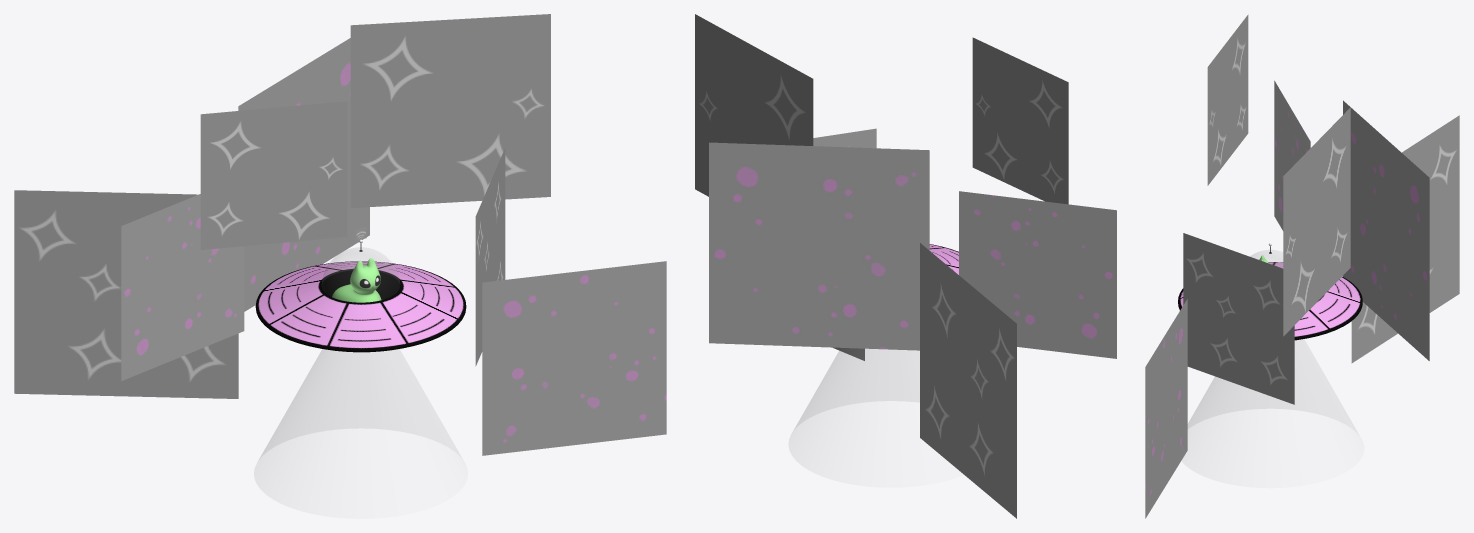
The model's file is cat alien.fbx.
3 renders of one model, left to right at view 1: azimuth 30°, elevation 25°; view 2: azimuth 150°, elevation 25°; view 3: azimuth 270°, elevation 25°, orthographic. The views are drawn at different scales.
Parts seen in each view (by area): view 1: Plane.006, Plane.007, Plane.005, Plane.003, Plane.001, ship, light, Plane.004, Plane.002, glass; view 2: Plane.004, Plane.001, Plane.005, Plane.003, Plane.006, light, Plane.002, ship; view 3: Plane.004, Plane.002, Plane.006, Plane.005, Plane.007, Plane.003, light, ship, Plane.001.
Part boxes in pixels (x1,y1,x2,y2): Plane.006: (350,14,550,208); Plane.007: (482,261,666,455); Plane.005: (14,190,238,398); Plane.003: (200,101,347,249); Plane.001: (121,194,244,380); ship: (255,239,466,352); light: (259,349,462,459); Plane.004: (238,38,369,311); Plane.002: (475,148,505,366); glass: (322,247,399,283); Plane.004: (709,142,929,350); Plane.001: (959,191,1116,358); Plane.005: (920,243,1016,518); Plane.003: (972,37,1068,204); Plane.006: (695,14,813,196); light: (794,348,919,429); Plane.002: (813,128,876,148); ship: (929,244,958,274); Plane.004: (1343,100,1429,360); Plane.002: (1183,233,1294,404); Plane.006: (1283,107,1350,336); Plane.005: (1351,115,1459,363); Plane.007: (1145,299,1187,518); Plane.003: (1207,14,1248,185); light: (1188,339,1358,434); ship: (1178,243,1362,340); Plane.001: (1274,80,1310,230).
Size of the model in its own units: 1390 by 1152 by 909.
